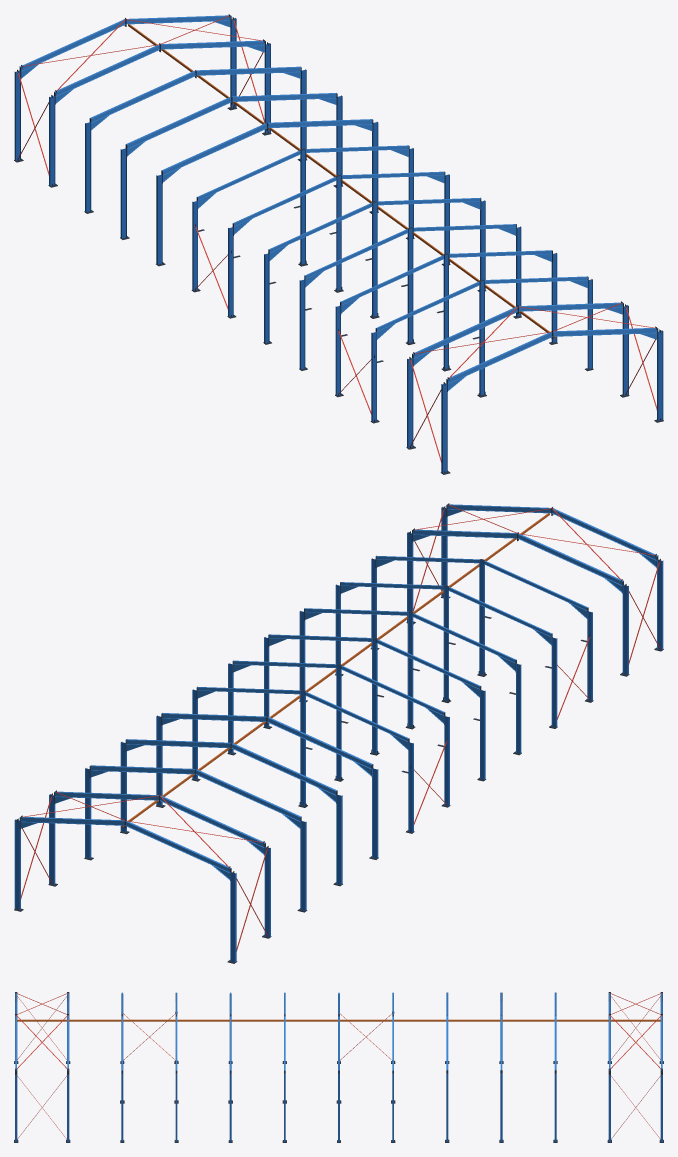
The model's file is baja.glb.
The picture shows the model from 3 angles, top to bottom: view 1: azimuth 30°, elevation 25°; view 2: azimuth 150°, elevation 25°; view 3: azimuth 270°, elevation 25°; orthographic projection. The views are drawn at different scales.
Parts seen in each view (by area): view 1: baja; view 2: baja; view 3: baja.
Boxes of the visible parts, left/top/right/bottom form: baja: left=14, top=14, right=663, bottom=474; baja: left=14, top=503, right=663, bottom=963; baja: left=14, top=992, right=663, bottom=1142.
Bounding box in the file's own units: 17.78 × 8.99 × 60.
